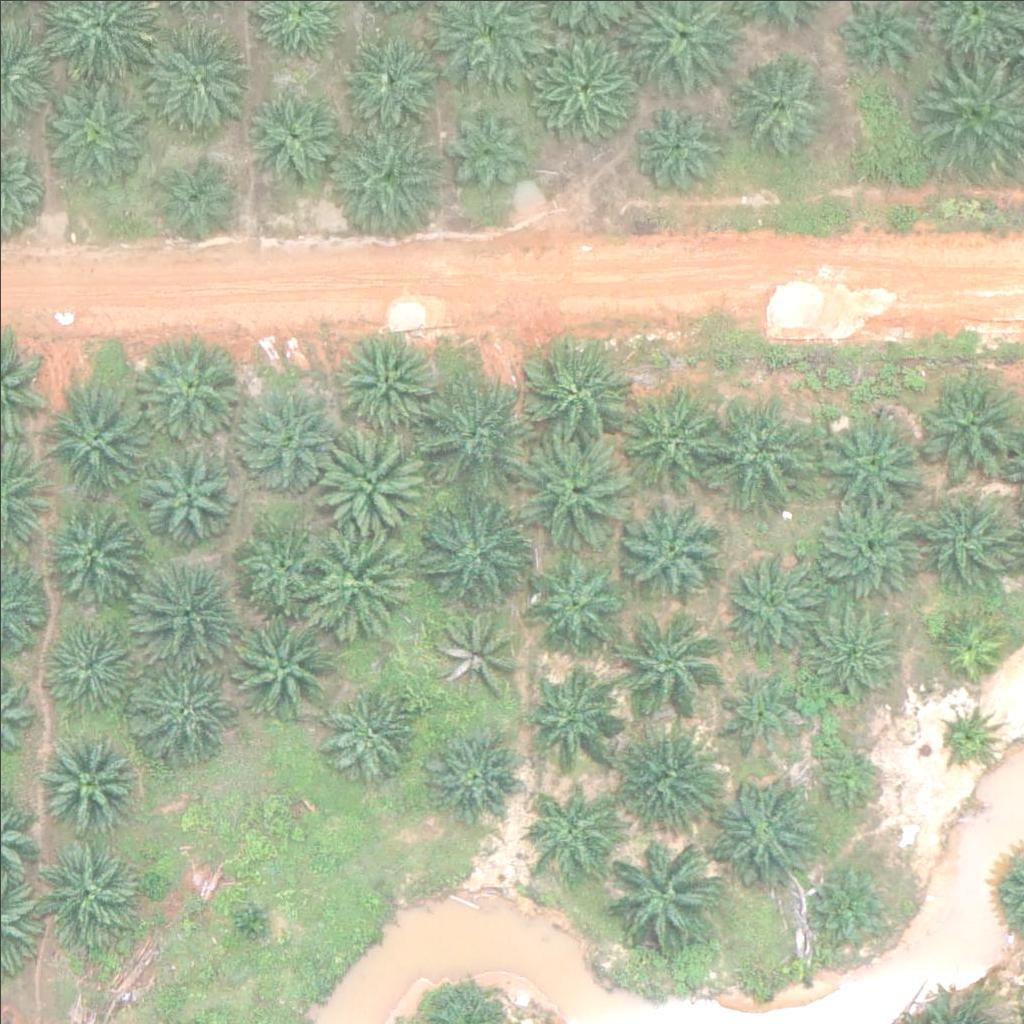Kelapa_Sawit: (129, 332, 242, 446), (42, 380, 155, 494), (532, 27, 645, 140), (147, 20, 260, 133), (130, 554, 243, 667), (518, 333, 631, 446), (605, 843, 718, 956), (711, 770, 824, 883), (813, 492, 926, 605), (816, 404, 929, 517), (43, 74, 155, 188), (331, 125, 443, 239), (607, 611, 719, 725), (709, 394, 821, 508), (226, 610, 338, 723), (303, 527, 415, 640), (316, 429, 428, 542), (414, 374, 526, 487), (418, 495, 530, 608), (520, 433, 632, 546), (619, 376, 731, 489), (616, 715, 728, 828), (627, 96, 727, 197), (341, 26, 441, 127), (137, 436, 237, 537), (236, 392, 336, 493), (322, 681, 422, 782), (526, 661, 626, 762), (624, 499, 724, 600), (724, 548, 824, 649), (916, 482, 1016, 583), (728, 47, 828, 147), (242, 92, 342, 192), (37, 837, 137, 937), (36, 728, 136, 828), (36, 612, 136, 712), (40, 496, 140, 596), (134, 652, 234, 752), (337, 330, 437, 430), (425, 727, 525, 827), (526, 558, 626, 658), (801, 601, 901, 701), (150, 154, 238, 242), (238, 521, 326, 609), (713, 667, 801, 755), (808, 859, 896, 947), (439, 106, 526, 194), (429, 608, 516, 696), (527, 778, 614, 866), (809, 741, 884, 816), (933, 603, 1008, 678), (936, 702, 999, 765), (229, 899, 279, 950)
